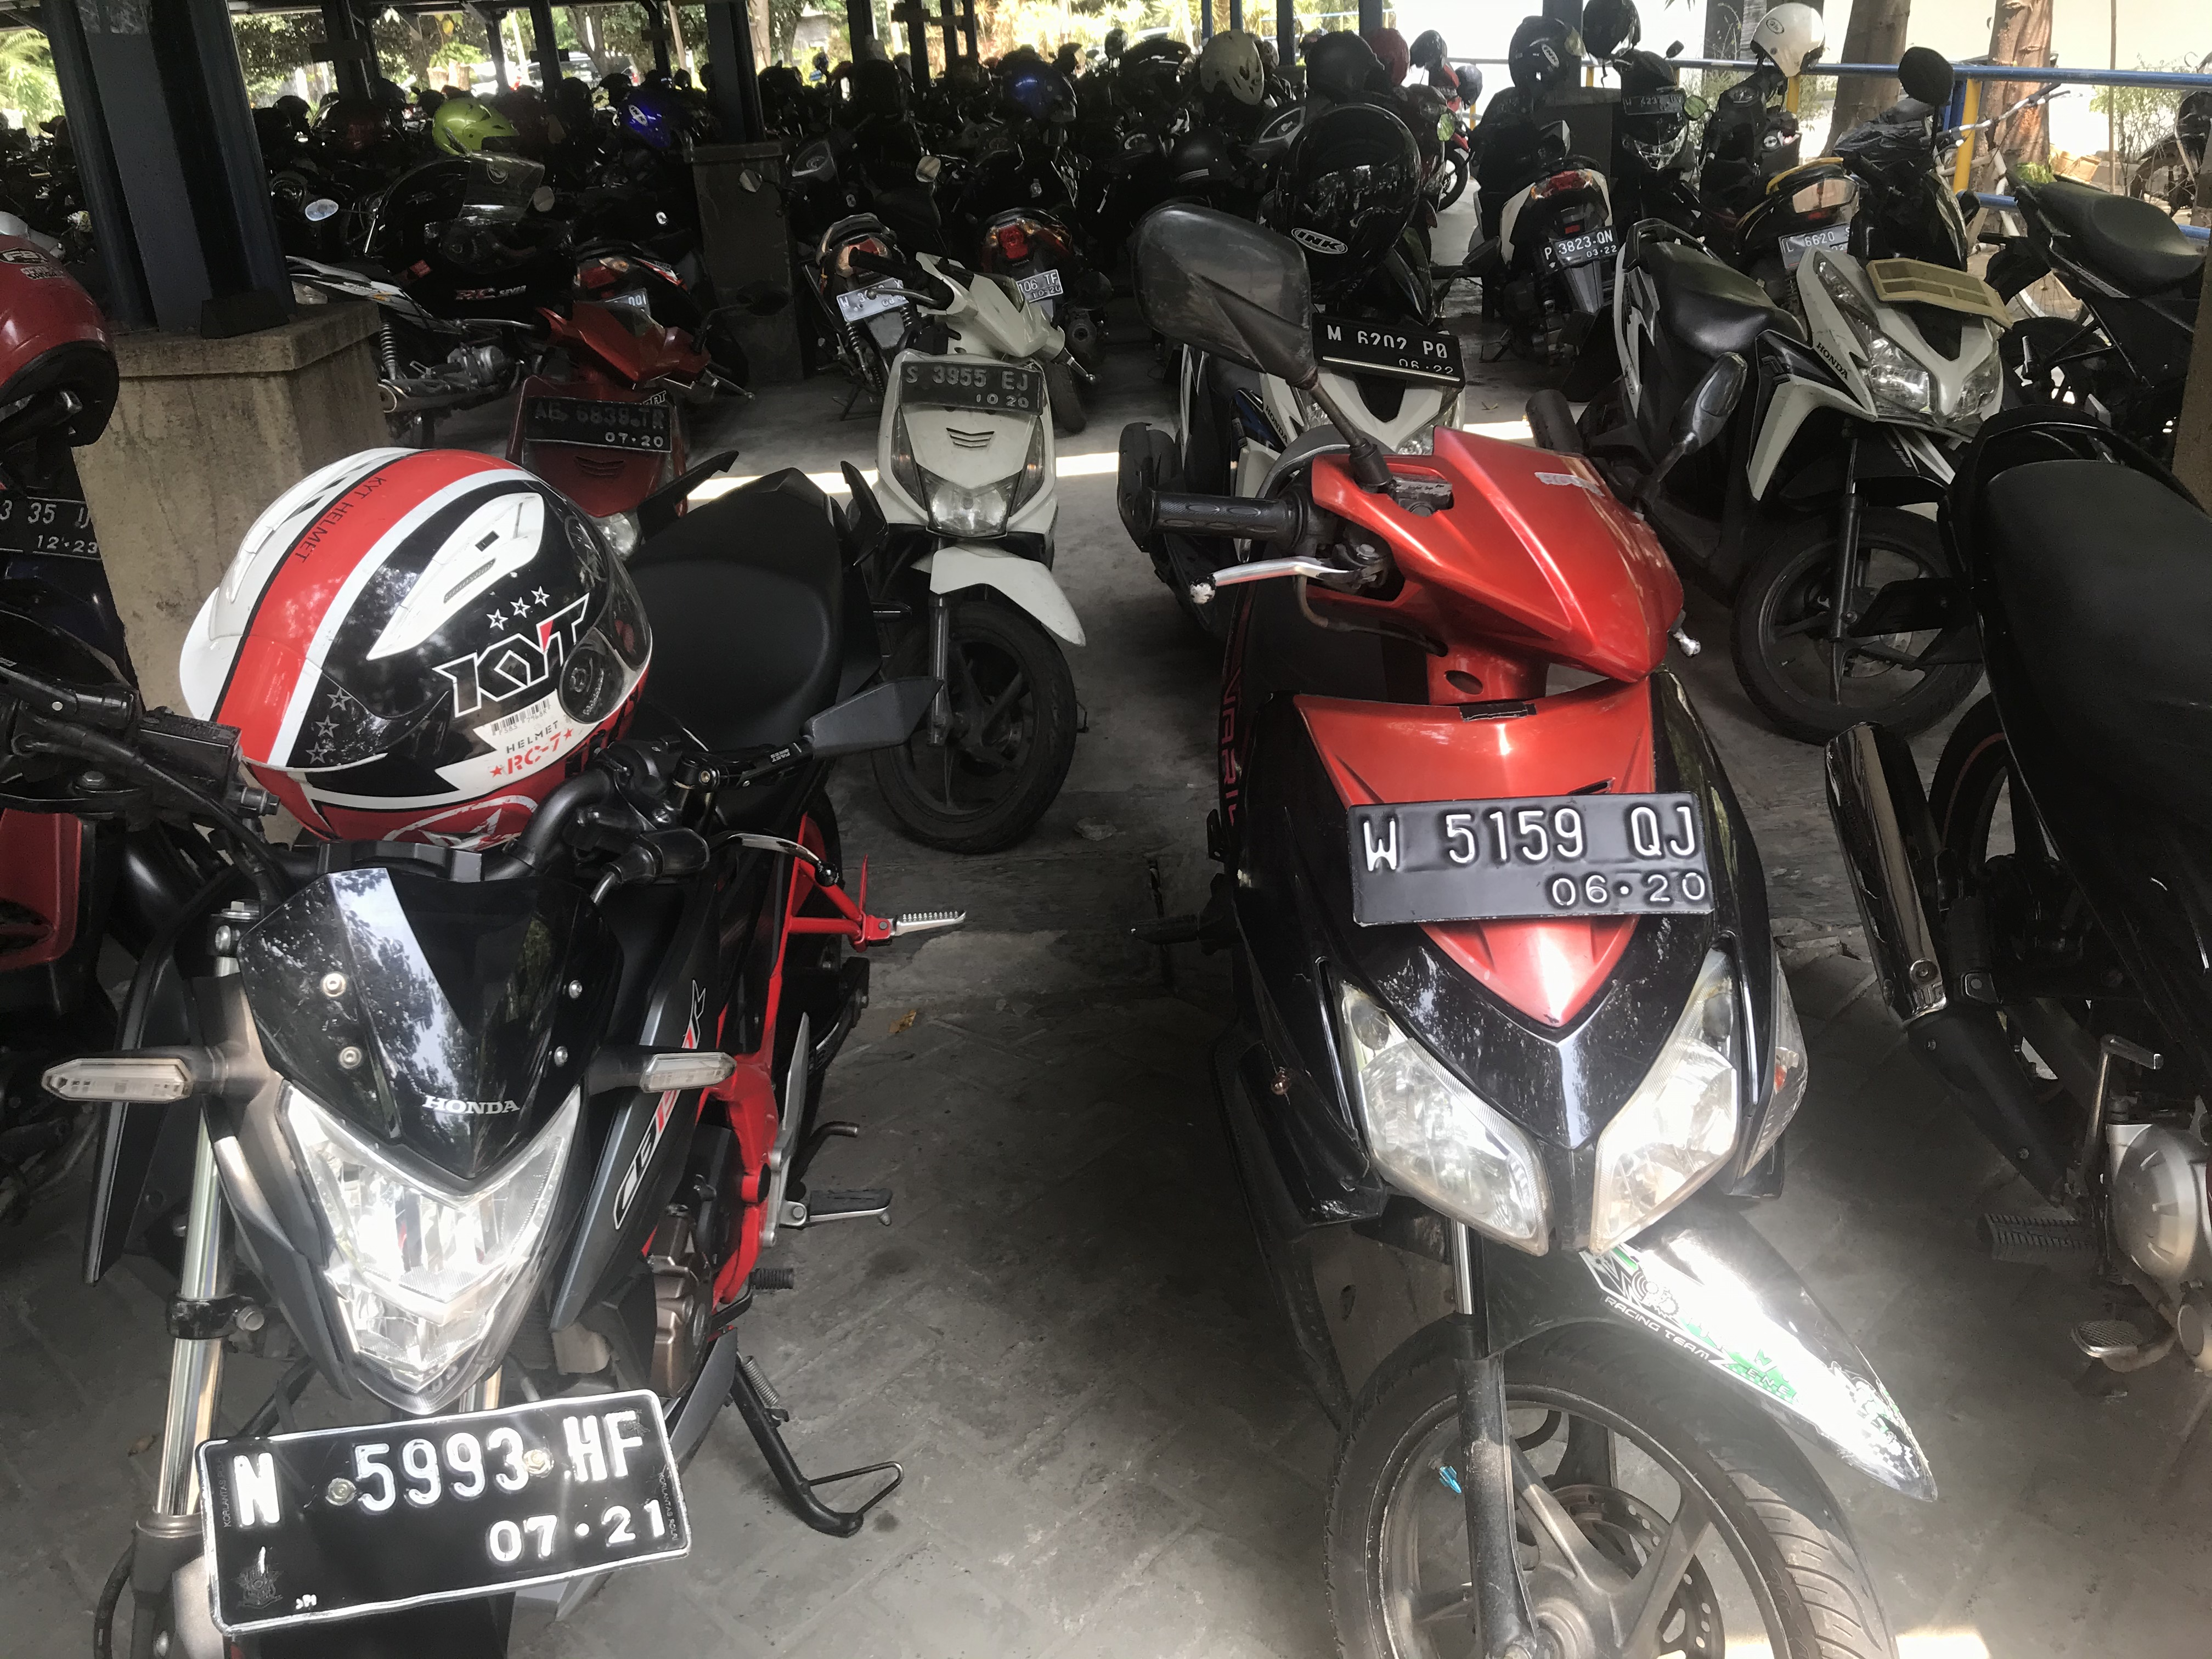plate: (211, 1384, 667, 1629), (1348, 803, 1706, 919), (1317, 313, 1466, 385), (901, 359, 1042, 411), (537, 399, 667, 445)
